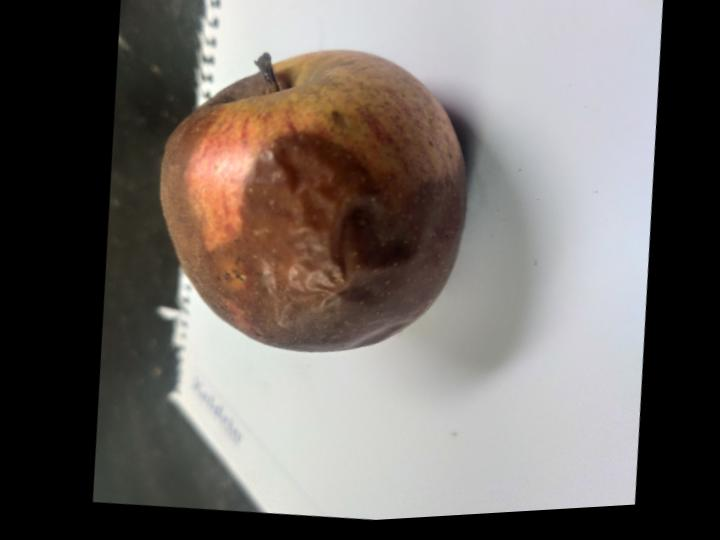apple: (161, 49, 465, 350)
rot_mold_decay: (161, 108, 465, 350), (206, 72, 268, 107)
